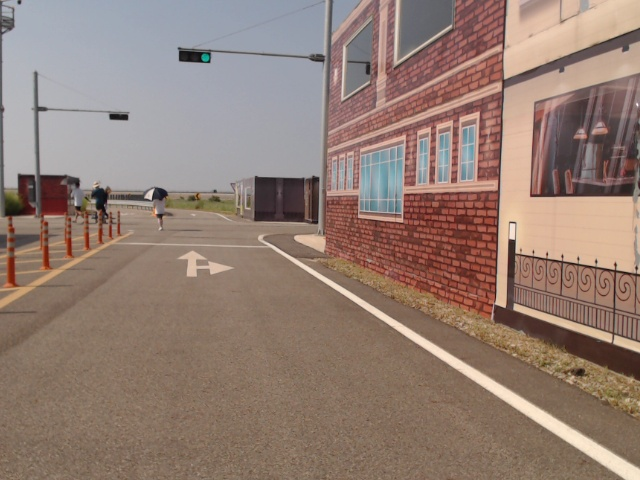green_3: (178, 50, 211, 63)
